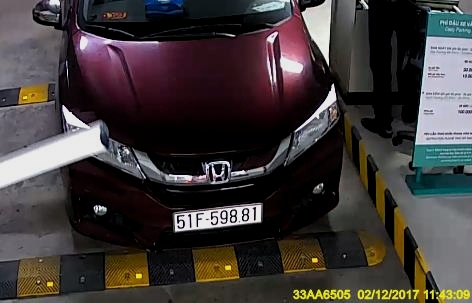plate: (173, 205, 264, 229)
